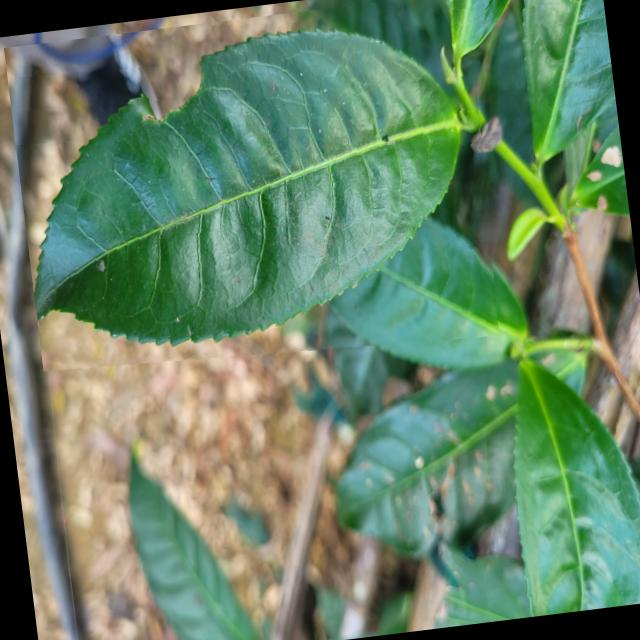Category D(7+ days, Not for Tea): (2, 0, 508, 391)
